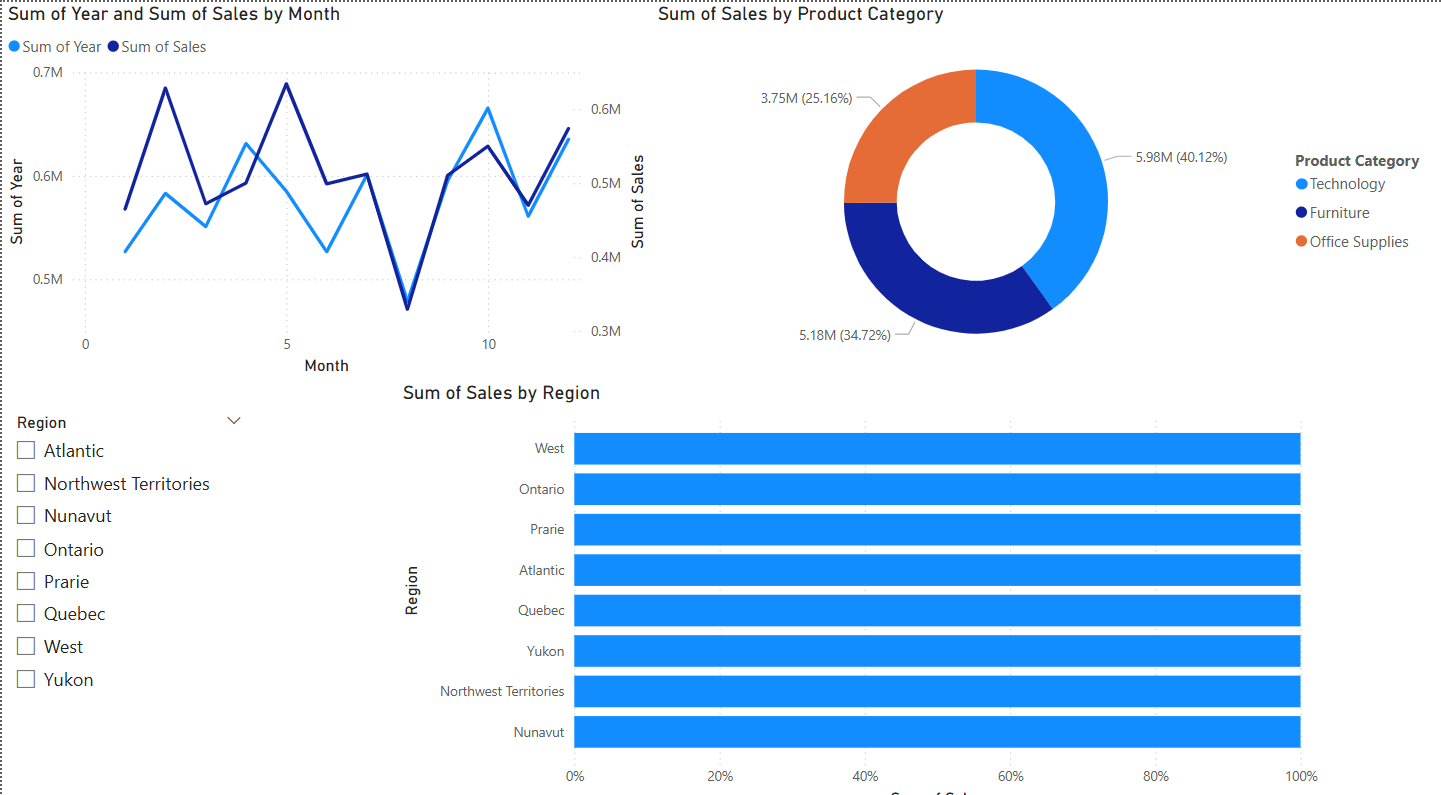

What the dashboard file says about the page in this screenshot:
{"tool":"powerbi","page":{"name":"Page 1","canvas":[1280,720],"ordinal":0},"visuals":[{"type":"lineChart","fields":{"Category":["Superstore-Sales.Month"],"Y":["Sum(Superstore-Sales.Year)"],"Y2":["Sum(Superstore-Sales.Sales)"]},"box":[0,0,577.7,336.2],"z":0},{"type":"hundredPercentStackedBarChart","fields":{"Category":["Superstore-Sales.Region"],"Y":["Sum(Superstore-Sales.Sales)"]},"box":[351.3,336.2,823.3,384.2],"z":1},{"type":"donutChart","fields":{"Y":["Sum(Superstore-Sales.Sales)"],"Category":["Superstore-Sales.Product Category"]},"box":[577.7,0,702.6,336.2],"z":2},{"type":"slicer","fields":{"Values":["Superstore-Sales.Region"]},"box":[0,359.5,225,360.9],"z":3}]}

Visuals, with their boxes in screenshot pixels (x1, y1, x2, y2), scaled from the page's 1280x720 canvas onto the 1441x795 screenshot:
lineChart - Superstore-Sales.Month x Sum(Superstore-Sales.Year): pyautogui.locateOnScreen(0, 0, 650, 371)
hundredPercentStackedBarChart - Superstore-Sales.Region x Sum(Superstore-Sales.Sales): pyautogui.locateOnScreen(395, 371, 1322, 794)
donutChart - Sum(Superstore-Sales.Sales) x Superstore-Sales.Product Category: pyautogui.locateOnScreen(650, 0, 1440, 371)
slicer - Superstore-Sales.Region: pyautogui.locateOnScreen(0, 397, 253, 794)
